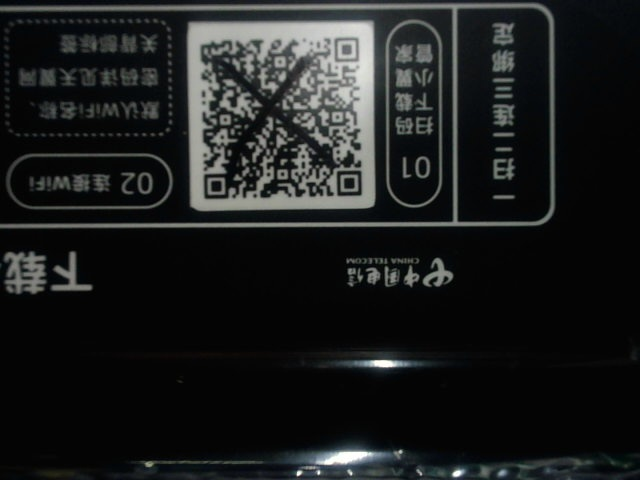AB_ChinaTelecom: (343, 248, 458, 297)
